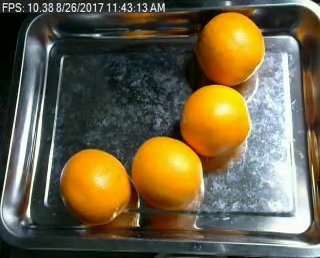Orange: (59, 148, 133, 222), (132, 137, 204, 210), (180, 83, 251, 156), (196, 11, 266, 85)
